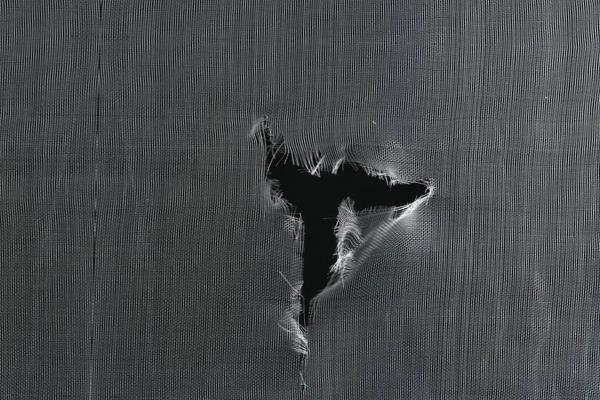hole: (252, 116, 437, 374)
